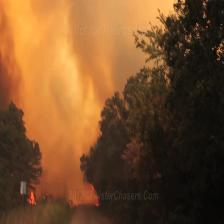fire: (23, 179, 44, 207)
smoke: (0, 0, 186, 217)
